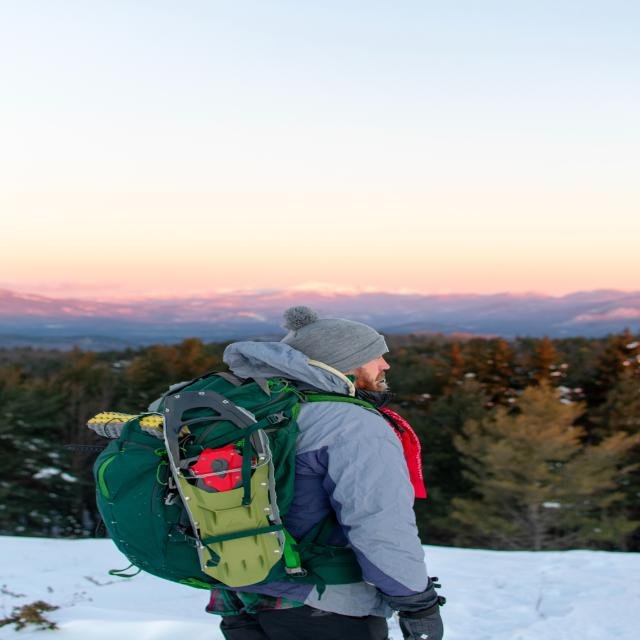backpack: (86, 367, 398, 600)
